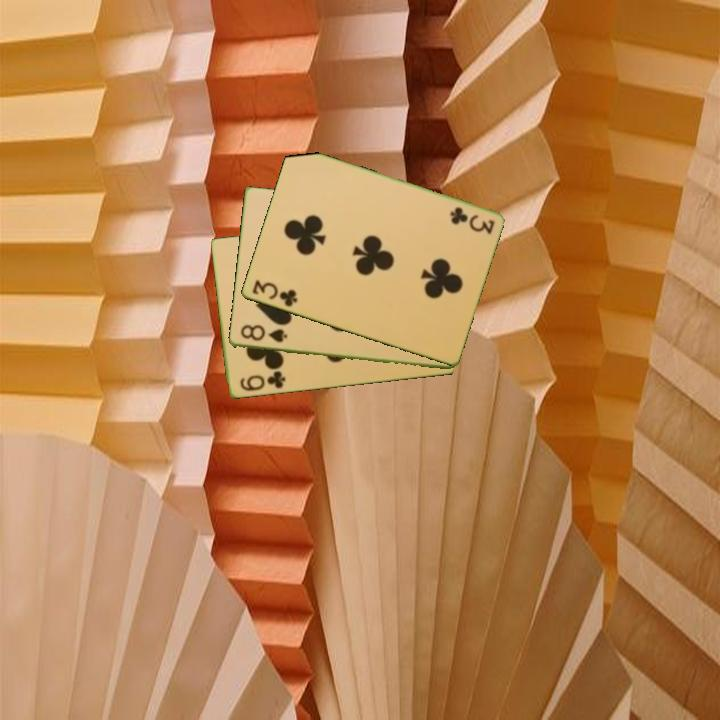3c: (248, 277, 300, 310), (446, 203, 497, 236)
6c: (236, 368, 288, 394)
8s: (237, 322, 290, 346)
